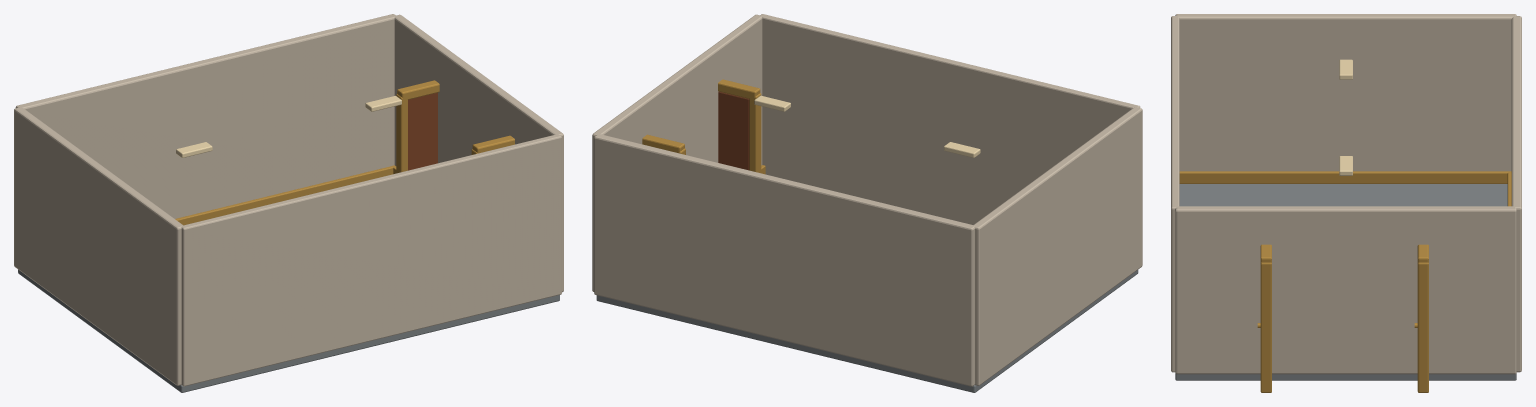
File: apartment_hall_t_junction_a.glb
3 renders of one model, left to right at view 1: azimuth 30°, elevation 25°; view 2: azimuth 150°, elevation 25°; view 3: azimuth 270°, elevation 25°, orthographic. The views are drawn at different scales.
Parts seen in each view (by area): view 1: CUTAWAY_FRONT, SET_Wall_Back, SET_Wall_Left, SET_Wall_Right, SET_Floor, SET_Apartment_2_Door, SET_Baseboard_Back, SET_Apartment_2_Jamb_L, SET_Apartment_2_Header; view 2: SET_Wall_Back, CUTAWAY_FRONT, SET_Wall_Left, SET_Wall_Right, SET_Floor, SET_Apartment_1_Door, SET_Apartment_1_Jamb_L, SET_Apartment_1_Header; view 3: SET_Wall_Right, SET_Wall_Left, SET_Floor, SET_Trim_Left, SET_Wall_Back, CUTAWAY_FRONT, SET_Apartment_1_Jamb_R, SET_Apartment_2_Jamb_R.
Boxes of the visible parts, x1=… form: CUTAWAY_FRONT: x1=181, y1=134, x2=561, y2=386; SET_Wall_Back: x1=15, y1=14, x2=395, y2=218; SET_Wall_Left: x1=14, y1=107, x2=183, y2=385; SET_Wall_Right: x1=394, y1=14, x2=563, y2=292; SET_Floor: x1=18, y1=269, x2=559, y2=392; SET_Apartment_2_Door: x1=408, y1=92, x2=437, y2=170; SET_Baseboard_Back: x1=175, y1=165, x2=394, y2=225; SET_Apartment_2_Jamb_L: x1=396, y1=94, x2=407, y2=173; SET_Apartment_2_Header: x1=397, y1=80, x2=439, y2=100; SET_Wall_Back: x1=594, y1=134, x2=974, y2=386; CUTAWAY_FRONT: x1=760, y1=14, x2=1140, y2=224; SET_Wall_Left: x1=973, y1=107, x2=1142, y2=385; SET_Wall_Right: x1=592, y1=14, x2=762, y2=291; SET_Floor: x1=596, y1=270, x2=1138, y2=392; SET_Apartment_1_Door: x1=718, y1=91, x2=749, y2=170; SET_Apartment_1_Jamb_L: x1=749, y1=93, x2=761, y2=173; SET_Apartment_1_Header: x1=718, y1=79, x2=760, y2=99; SET_Wall_Right: x1=1175, y1=206, x2=1516, y2=374; SET_Wall_Left: x1=1175, y1=14, x2=1516, y2=171; SET_Floor: x1=1175, y1=184, x2=1516, y2=380; SET_Trim_Left: x1=1179, y1=171, x2=1511, y2=183; SET_Wall_Back: x1=1511, y1=16, x2=1521, y2=372; CUTAWAY_FRONT: x1=1171, y1=16, x2=1179, y2=372; SET_Apartment_1_Jamb_R: x1=1260, y1=262, x2=1271, y2=392; SET_Apartment_2_Jamb_R: x1=1417, y1=262, x2=1428, y2=392.
Size of what is drawn, in the model's own units: 8.76 by 3.36 by 6.17.
